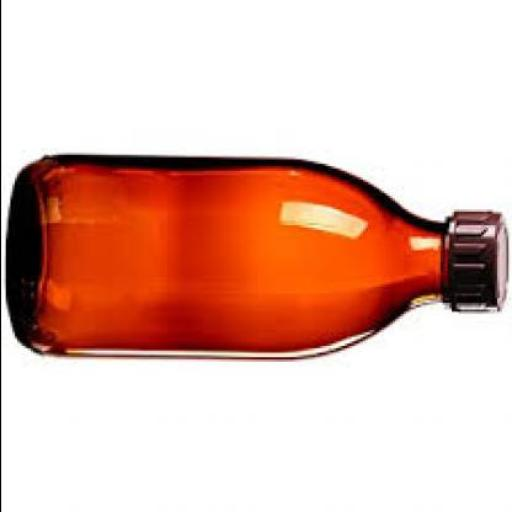glass: (7, 158, 448, 360)
plastic: (448, 212, 510, 316)
